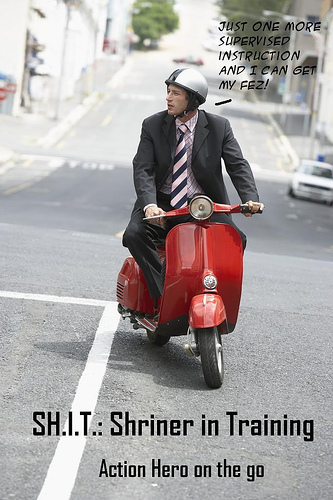helmet: (165, 60, 213, 97)
